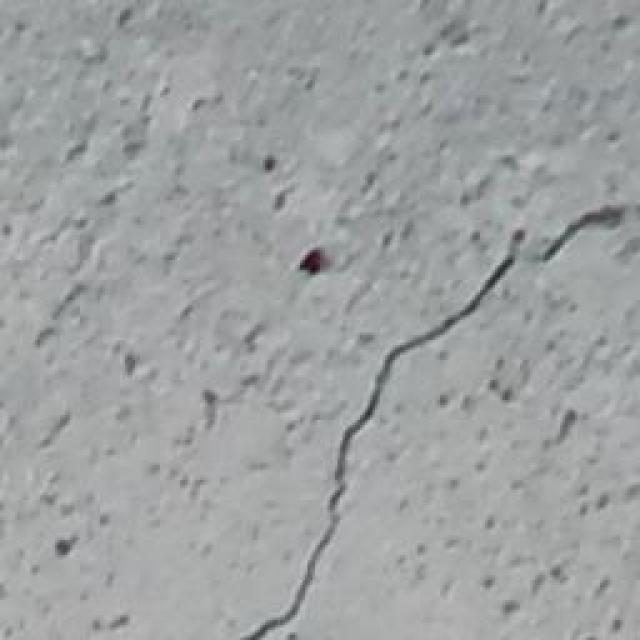concrete-crack: (235, 205, 628, 640)
